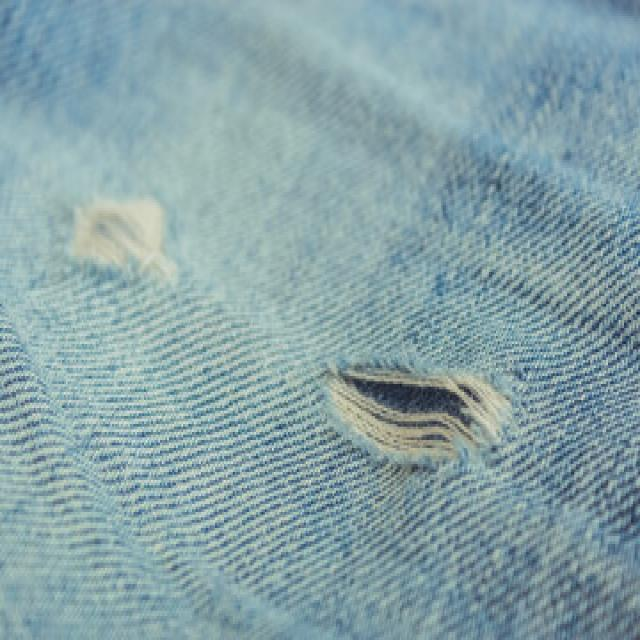Hole: (329, 369, 512, 464), (70, 198, 176, 284)
